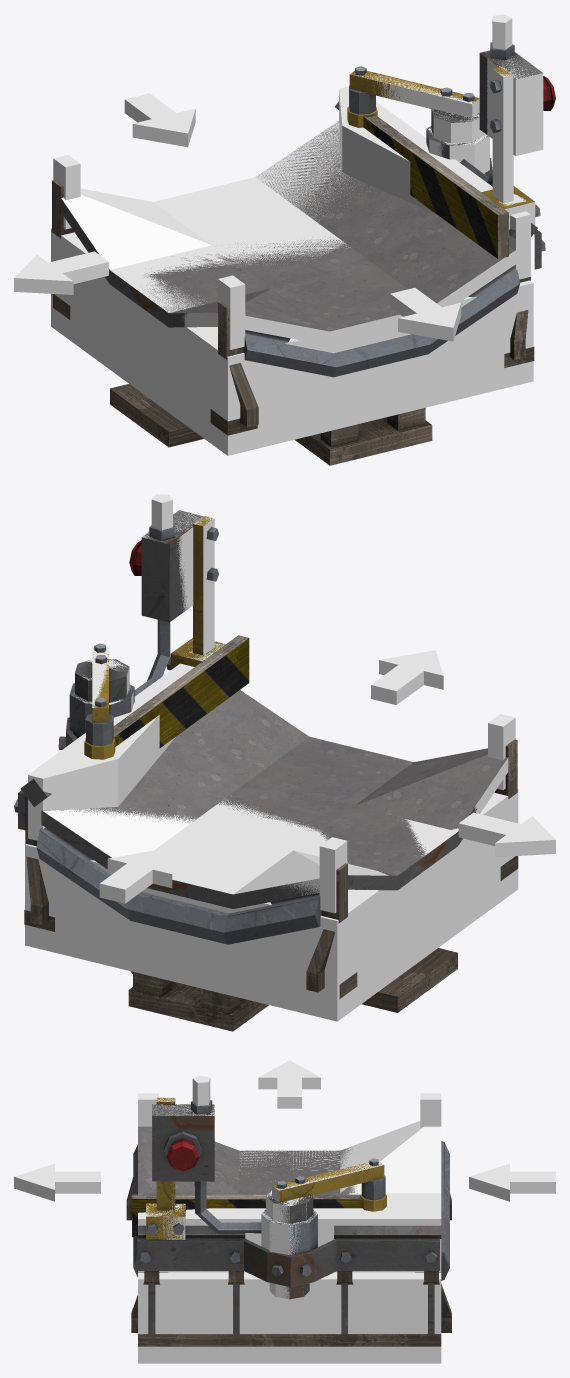
File: ConveyorRouting_Right.glb
3 renders of one model, top to bottom at view 1: azimuth 30°, elevation 25°; view 2: azimuth 150°, elevation 25°; view 3: azimuth 270°, elevation 25°, orthographic. The views are drawn at different scales.
Visible parts, largest first — view 1: ConveyorRoutingRight_Col, ConveyorRoutingRight, ConveyorRoutingRight_Wiper, ghostarrow (2), ghostarrow (1), ghostarrow; view 2: ConveyorRoutingRight, ConveyorRoutingRight_Col, ConveyorRoutingRight_Wiper, ghostarrow (2), ghostarrow (1), ghostarrow; view 3: ConveyorRoutingRight, ConveyorRoutingRight_Col, ConveyorRoutingRight_Wiper, ghostarrow (1), ghostarrow, ghostarrow (2), ConveyorRoutingRight_Button.
Boxes of the visible parts, x1,y1,x2,y2 form: ConveyorRoutingRight_Col: (51, 56, 543, 455); ConveyorRoutingRight: (52, 14, 545, 465); ConveyorRoutingRight_Wiper: (347, 106, 508, 259); ghostarrow (2): (14, 251, 108, 294); ghostarrow (1): (124, 93, 195, 147); ghostarrow: (390, 287, 461, 341); ConveyorRoutingRight: (14, 494, 518, 1031); ConveyorRoutingRight_Col: (25, 511, 518, 1021); ConveyorRoutingRight_Wiper: (84, 635, 249, 759); ghostarrow (2): (458, 812, 555, 857); ghostarrow (1): (99, 848, 172, 903); ghostarrow: (371, 650, 443, 704); ConveyorRoutingRight: (126, 1075, 451, 1346); ConveyorRoutingRight_Col: (138, 1093, 441, 1363); ConveyorRoutingRight_Wiper: (132, 1194, 386, 1236); ghostarrow (1): (469, 1163, 555, 1201); ghostarrow: (14, 1163, 100, 1201); ghostarrow (2): (258, 1060, 320, 1108); ConveyorRoutingRight_Button: (166, 1138, 199, 1171).
Bounding box in the file's own units: 1.56 × 1.15 × 1.79.
Materials: 7 (2 with a texture image).
